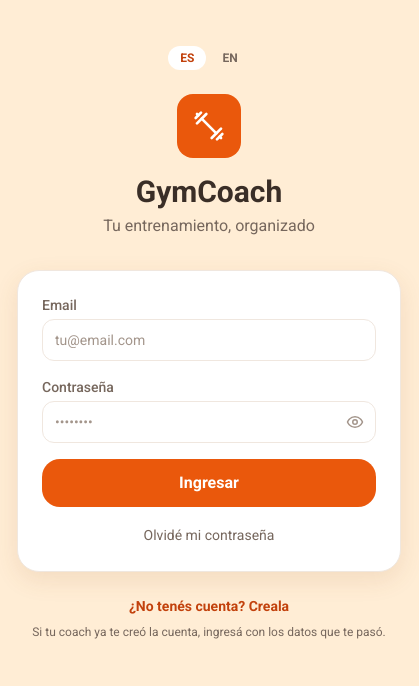
Test: LoginPage › muestra "Email o contraseña incorrectos" cuando signIn rechaza
Type "wrong@example.com" into the field labelled "Email".
click(209, 340); type("wrong@example.com")  # box [42,319,376,361]
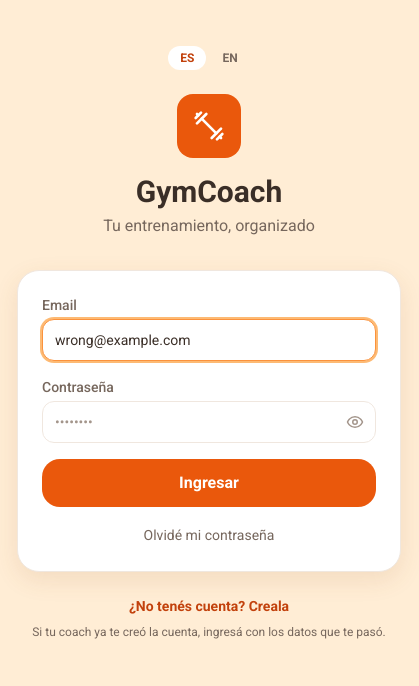
Type "badpass" into the password field labelled "Contraseña".
click(209, 422); type("badpass")  # box [42,401,376,443]
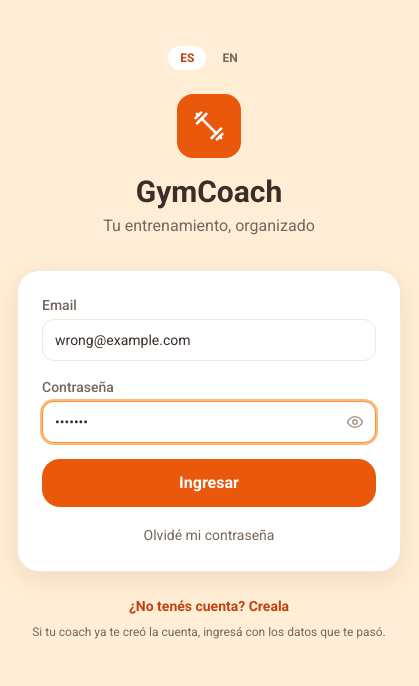
Click the button "Ingresar".
click(209, 483)  # box [42,459,376,507]
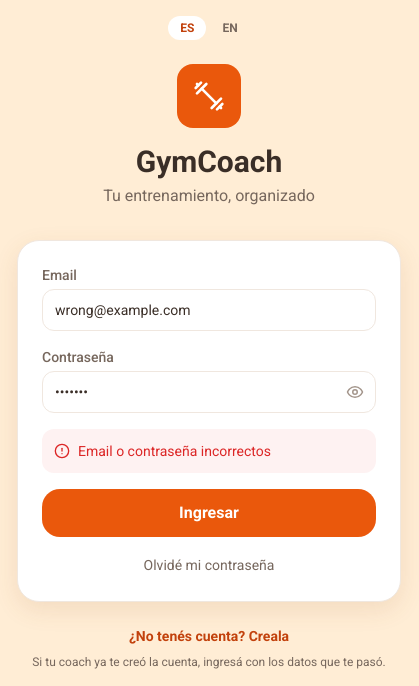
Now the text "Email o contraseña incorrectos" is shown, box [78,441,271,461]
